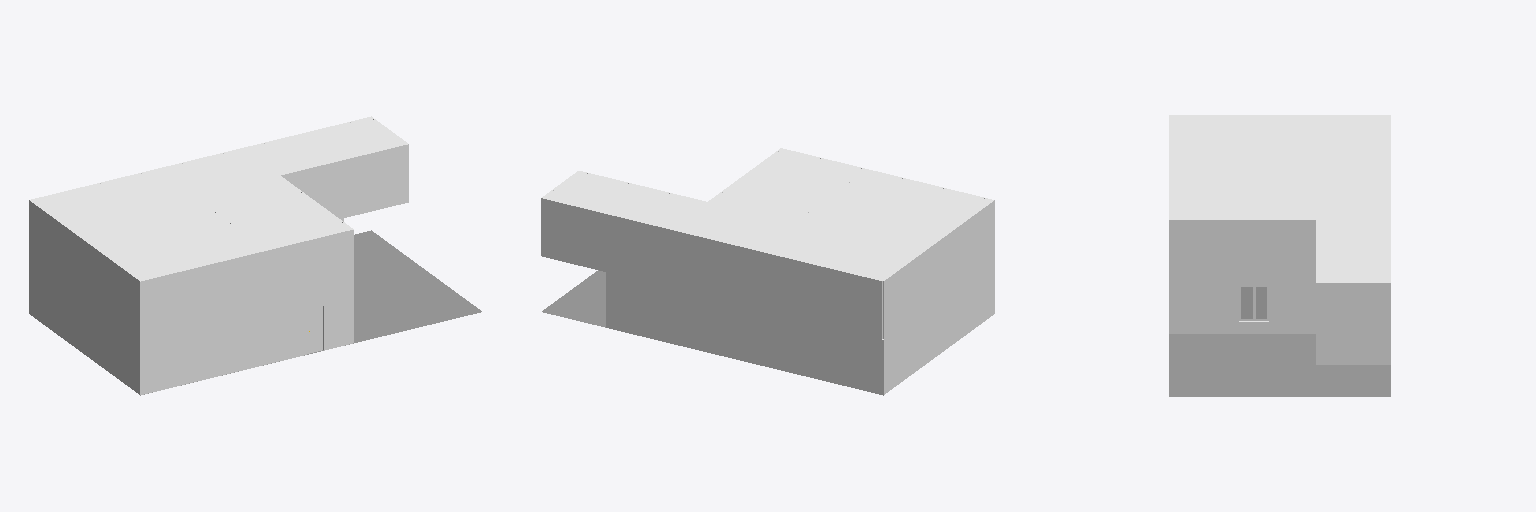
Rendered from houseProject.obj.
3 views of the same model, side by side, from view 1: azimuth 30°, elevation 25°; view 2: azimuth 150°, elevation 25°; view 3: azimuth 270°, elevation 25° (orthographic).
Visible parts, largest first — view 1: room_27_146, wall_15_89, ground_1, wall_13_77, wall_14_83, wall_6_35, wall_18_107, wall_1_5, wall_12_71, wall_17_101, sweethome3d_opening_on_hinge_1_door_193; view 2: room_27_146, wall_21_125, wall_10_59, wall_14_83, wall_20_119, wall_1_5, wall_12_71, ground_1; view 3: room_27_146, ground_1, wall_16_95, wall_7_41, wall_19_113, wall_9_53.
Part boxes in pixels (x1,y1,x2,y2): room_27_146: (32, 118, 405, 279); wall_15_89: (140, 230, 353, 339); ground_1: (140, 230, 481, 395); wall_13_77: (140, 309, 267, 394); wall_14_83: (29, 200, 139, 338); wall_6_35: (267, 288, 353, 363); wall_18_107: (343, 144, 408, 217); wall_1_5: (29, 259, 90, 358); wall_12_71: (91, 304, 139, 394); wall_17_101: (281, 160, 342, 218); sweethome3d_opening_on_hinge_1_door_193: (307, 306, 322, 353); room_27_146: (544, 149, 991, 279); wall_21_125: (607, 214, 882, 338); wall_10_59: (606, 272, 883, 395); wall_14_83: (883, 200, 994, 338); wall_20_119: (541, 198, 606, 271); wall_1_5: (884, 295, 945, 394); wall_12_71: (946, 259, 994, 348); ground_1: (542, 270, 605, 327); room_27_146: (1171, 116, 1389, 281); ground_1: (1169, 334, 1390, 396); wall_16_95: (1169, 220, 1315, 277); wall_7_41: (1169, 278, 1315, 333); wall_19_113: (1316, 283, 1390, 337); wall_9_53: (1316, 341, 1390, 364).
Size of the model in its own units: 1612 by 512 by 909.